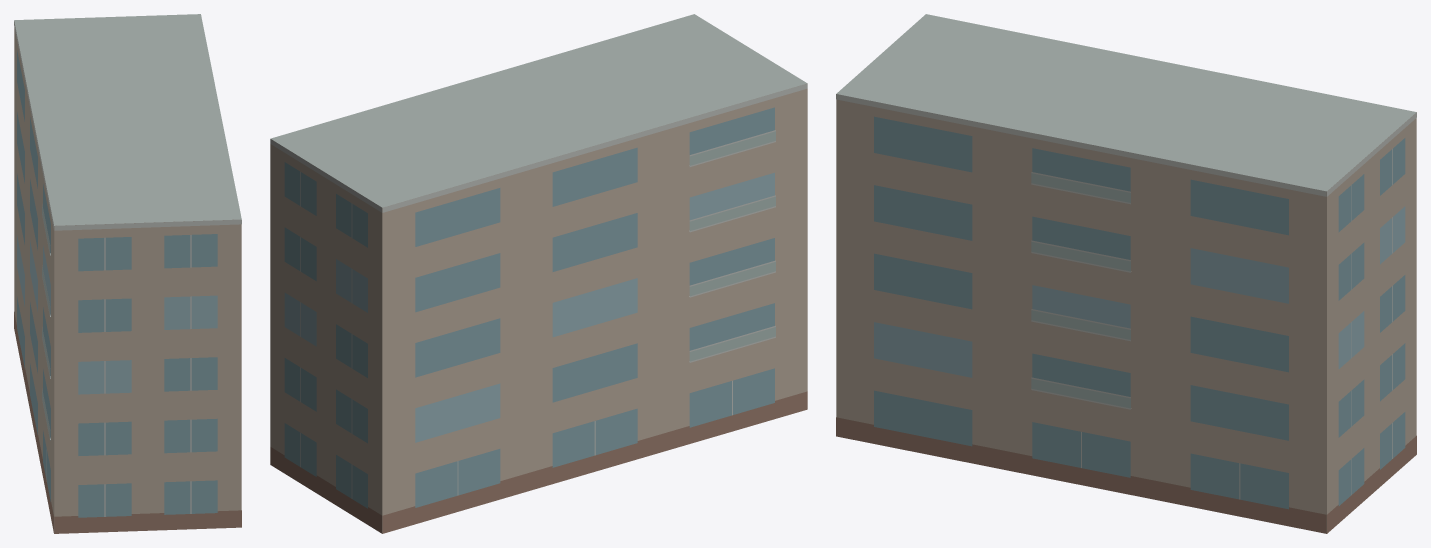
Rendered from survey-upis-32552259.glb.
3 views of the same model, side by side, from view 1: azimuth 30°, elevation 25°; view 2: azimuth 150°, elevation 25°; view 3: azimuth 270°, elevation 25° (orthographic). The views are drawn at different scales.
Visible parts, largest first — view 1: survey-upis-32552259.tmp; view 2: survey-upis-32552259.tmp; view 3: survey-upis-32552259.tmp.
Boxes of the visible parts, x1,y1,x2,y2 form: survey-upis-32552259.tmp: [14, 14, 241, 533]; survey-upis-32552259.tmp: [270, 14, 807, 533]; survey-upis-32552259.tmp: [836, 14, 1416, 533].
Bounding box in the file's own units: 16.96 × 15.25 × 23.45.
